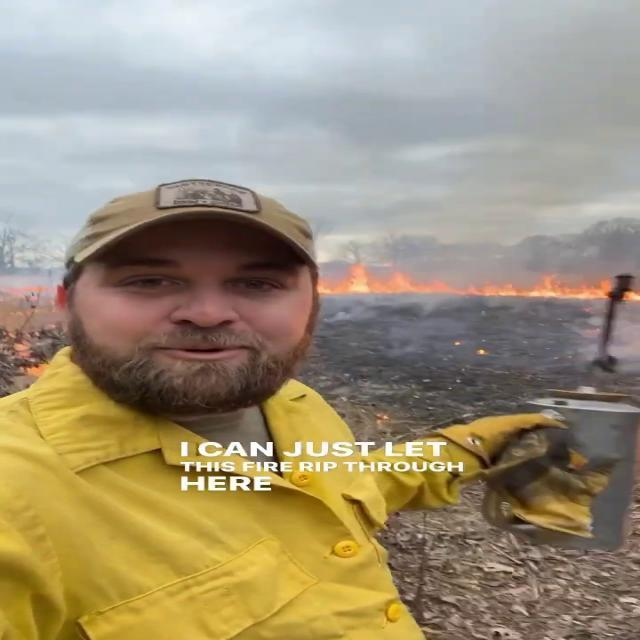Fire: (308, 269, 636, 301)
